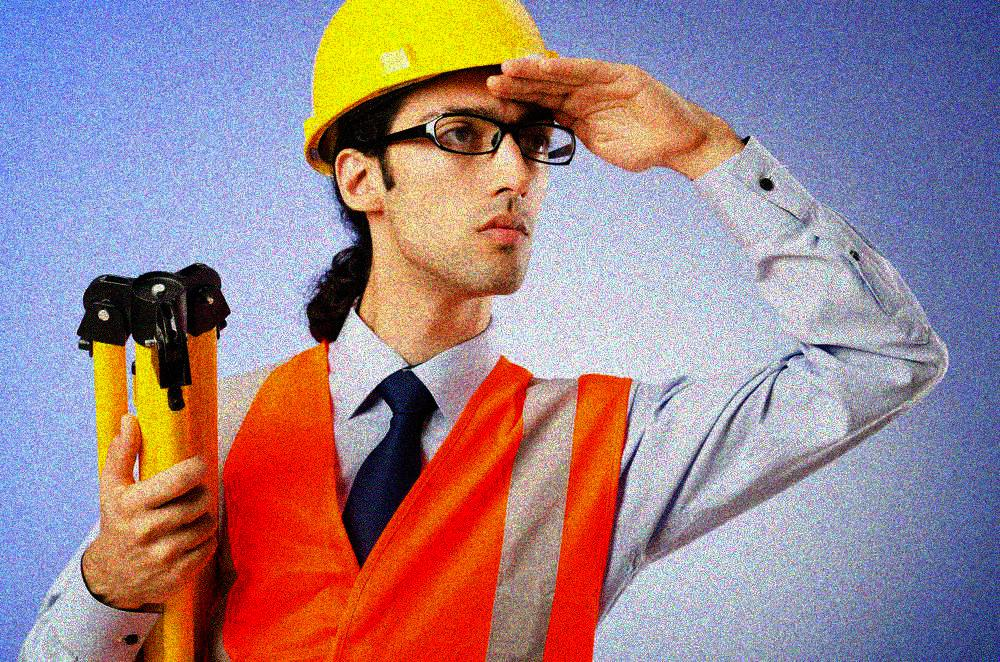helmet: (300, 1, 575, 297)
